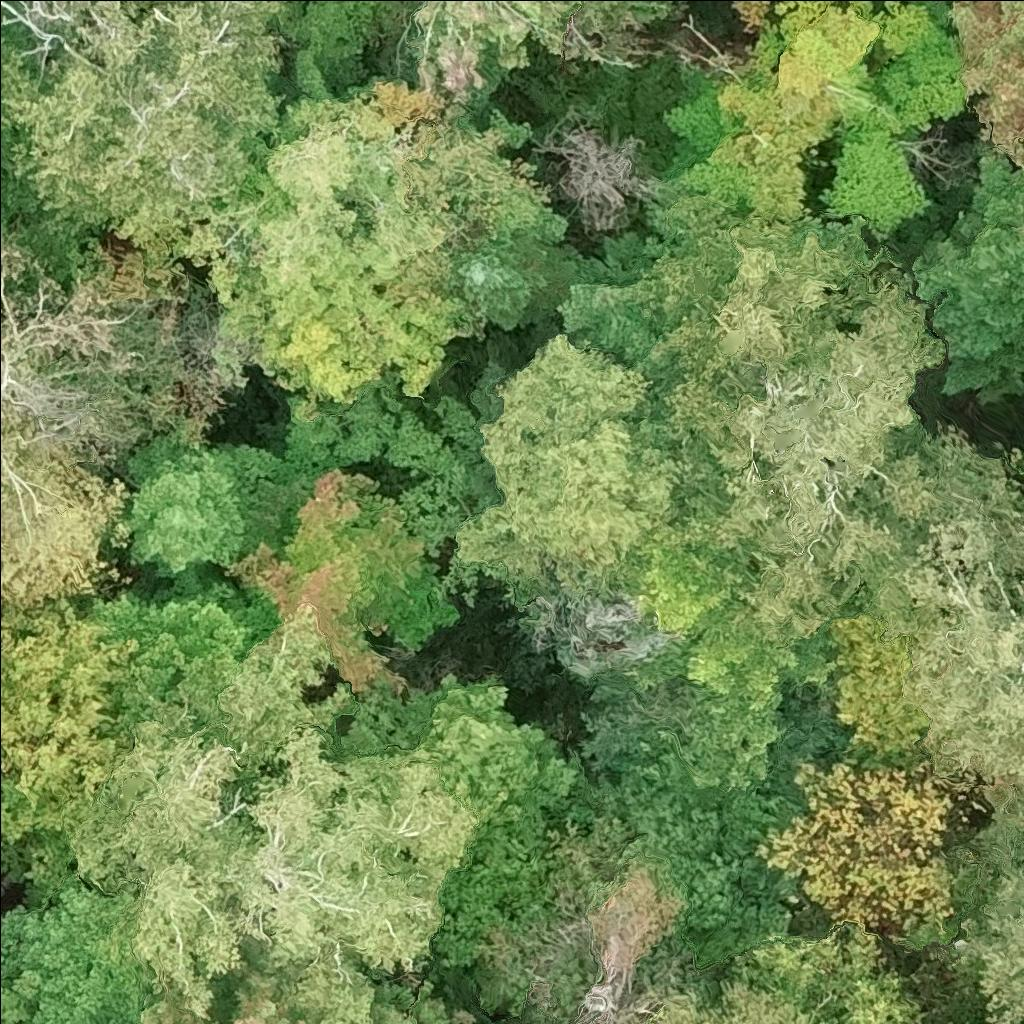crown: (635, 179, 978, 638), (175, 68, 573, 416), (105, 720, 483, 1023), (0, 222, 237, 617), (661, 0, 975, 243), (0, 0, 297, 250), (452, 330, 692, 607), (219, 462, 461, 698), (863, 447, 1023, 787), (600, 750, 838, 965), (752, 749, 958, 931), (384, 674, 579, 837), (183, 605, 357, 787), (909, 136, 1023, 409), (628, 924, 920, 1023), (411, 0, 682, 102), (92, 565, 284, 701), (120, 430, 288, 579), (0, 882, 150, 1023), (432, 832, 575, 969), (529, 106, 666, 238), (827, 608, 930, 766), (132, 939, 314, 1023), (445, 230, 582, 332), (279, 0, 414, 101), (950, 0, 1023, 177), (950, 860, 1023, 1023), (374, 1005, 419, 1023), (0, 7, 3, 102), (908, 1018, 929, 1023), (956, 1020, 966, 1023)
